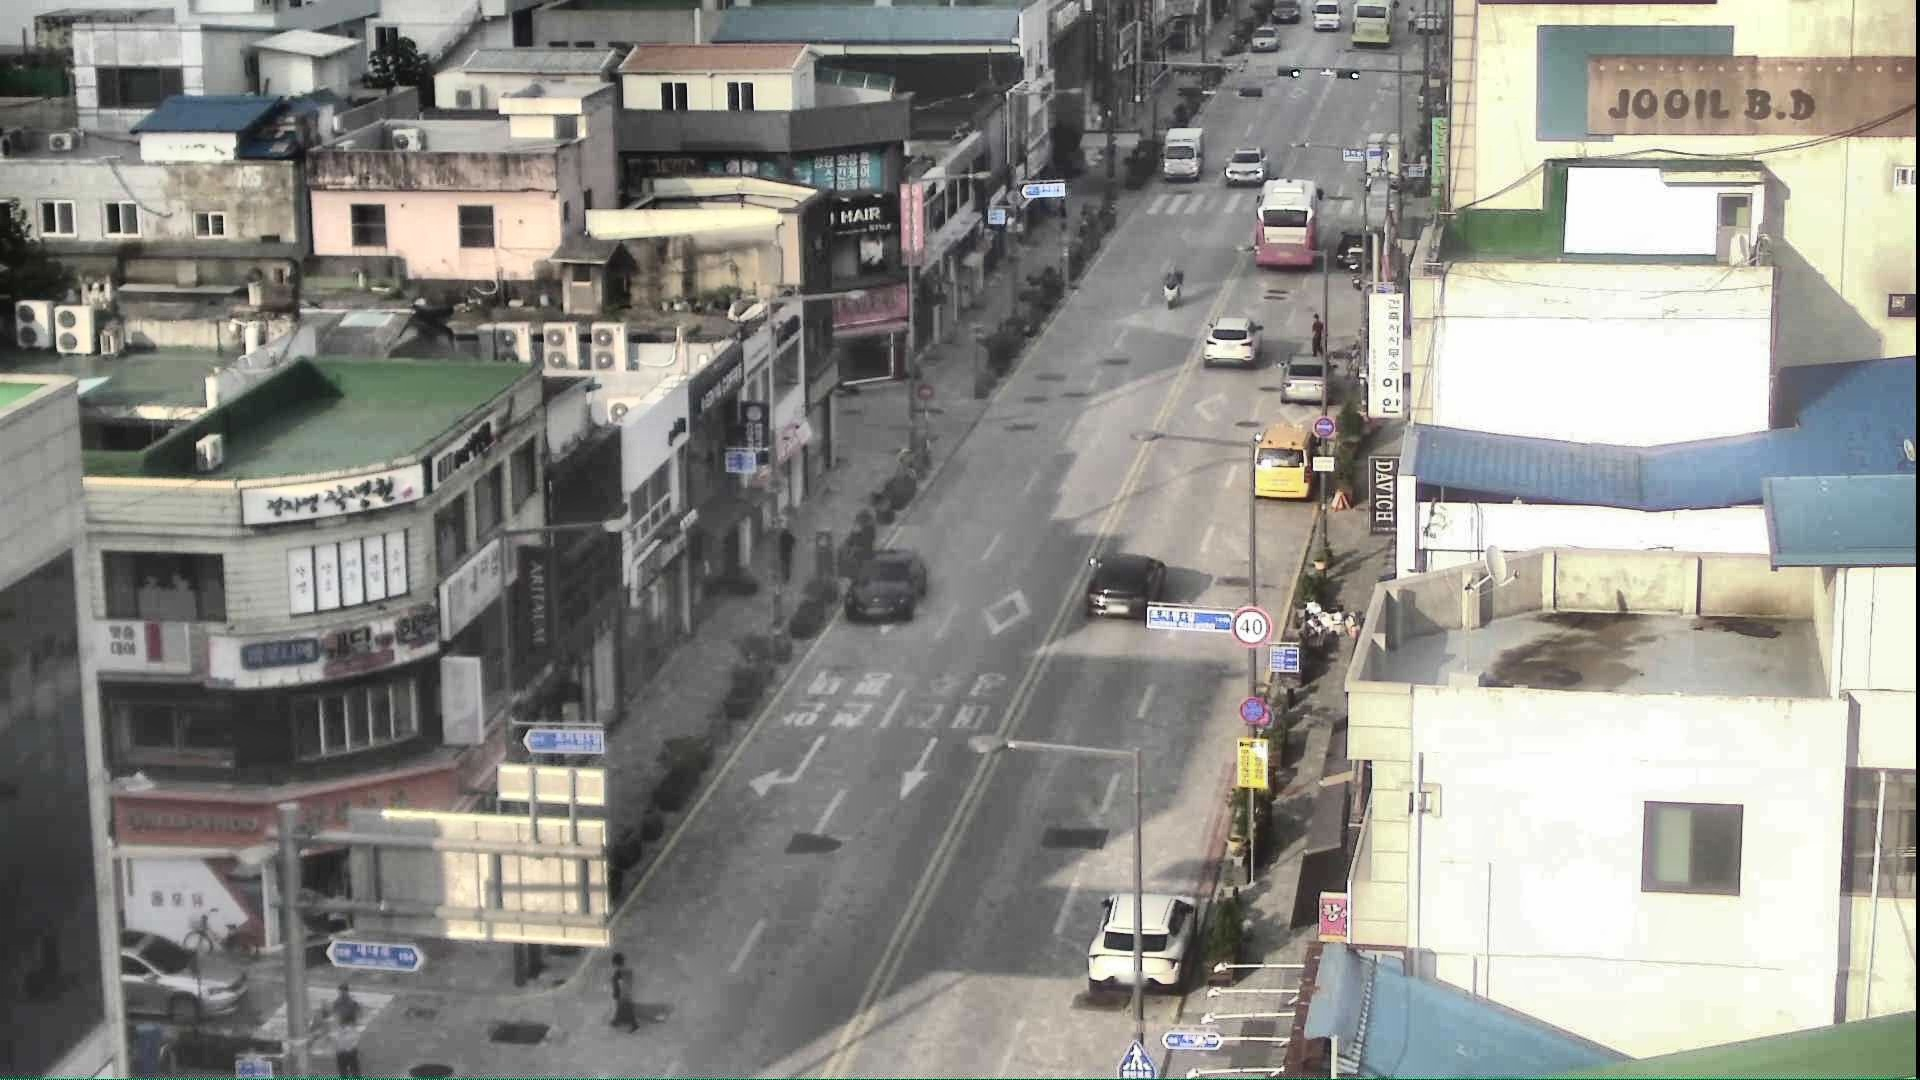jaywalk: (600, 949, 646, 1034), (1308, 310, 1328, 357)
sidewalk: (774, 522, 800, 585)
